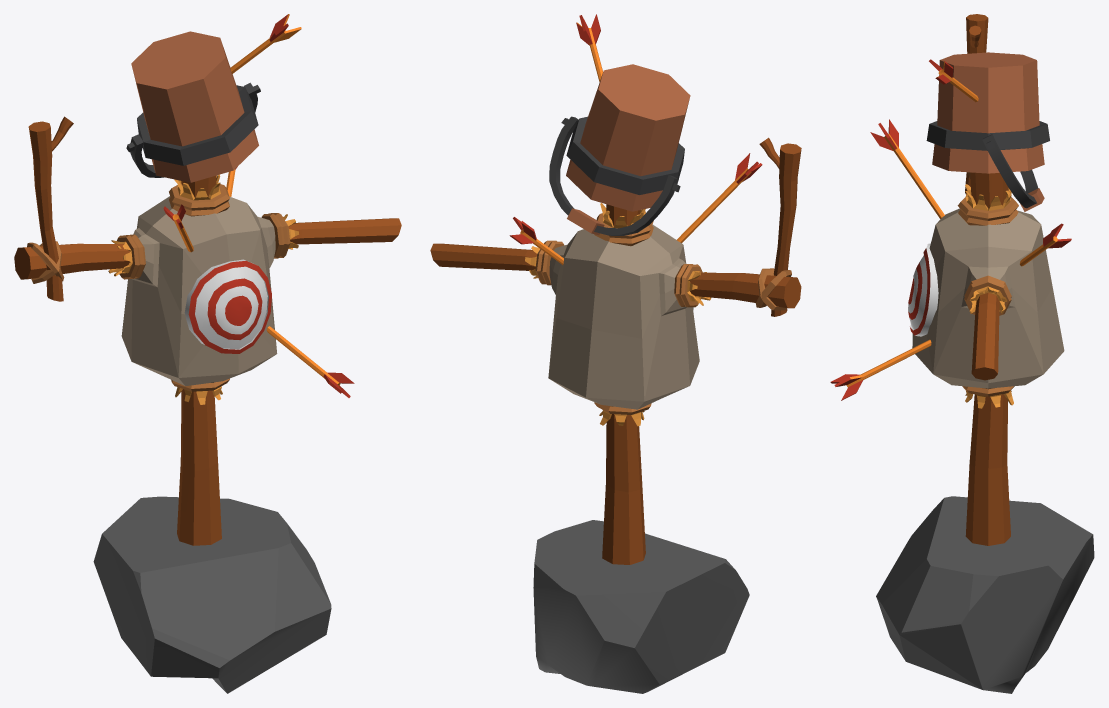
File: MannequinCraq 2.fbx
The picture shows the model from 3 angles, left to right: view 1: azimuth 30°, elevation 25°; view 2: azimuth 150°, elevation 25°; view 3: azimuth 270°, elevation 25°; orthographic projection. The views are drawn at different scales.
Parts seen in each view (by area): view 1: Circle, Circle.001, Circle.006, Circle.004, Circle.005; view 2: Circle, Circle.001, Circle.006, Circle.004; view 3: Circle, Circle.001, Circle.006, Circle.005, Circle.004.
Part boxes in pixels (x1,y1,x2,y2): Circle: (14,166,401,545); Circle.001: (93,496,331,693); Circle.006: (126,14,301,182); Circle.004: (28,116,73,301); Circle.005: (266,326,354,397); Circle: (430,153,801,564); Circle.001: (533,520,749,693); Circle.006: (549,14,690,235); Circle.004: (759,137,801,316); Circle: (870,119,1071,545); Circle.001: (876,496,1094,693); Circle.006: (926,52,1049,211); Circle.005: (830,339,931,400); Circle.004: (965,14,988,194).
Bounding box in the file's own units: 176 × 293 × 111.
